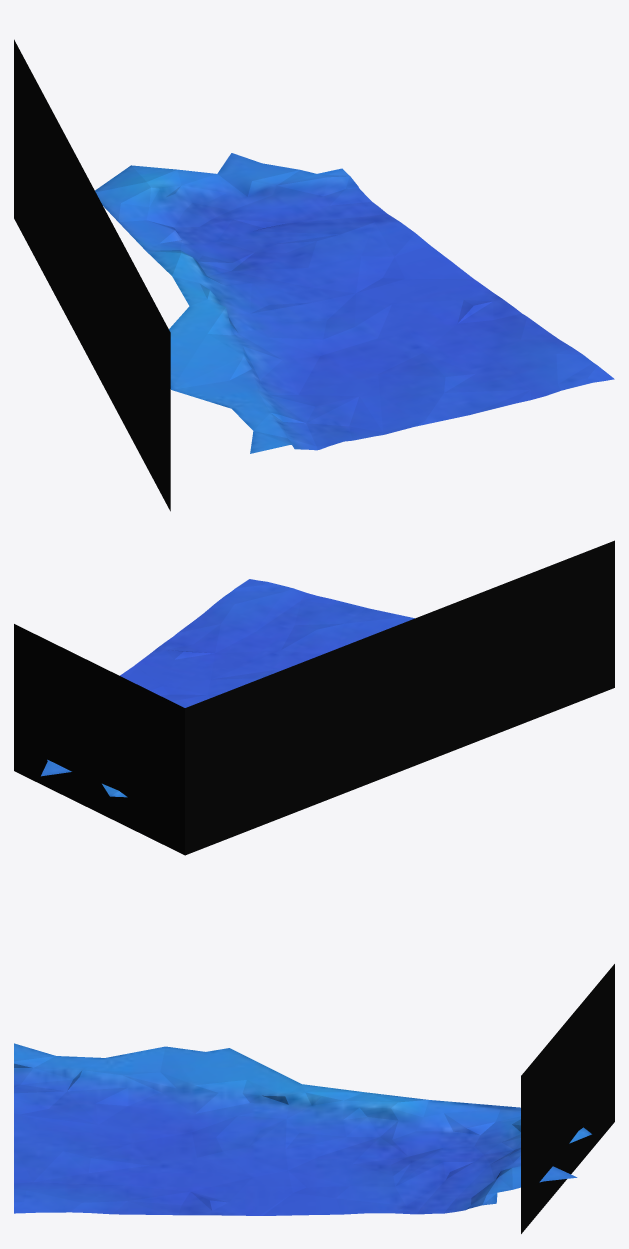
The picture shows the model from 3 angles, top to bottom: view 1: azimuth 30°, elevation 25°; view 2: azimuth 150°, elevation 25°; view 3: azimuth 270°, elevation 25°; orthographic projection. The views are drawn at different scales.
Size of the model in its own units: 23.36 by 9 by 30.92.
Materials: 2 (2 with a texture image).
